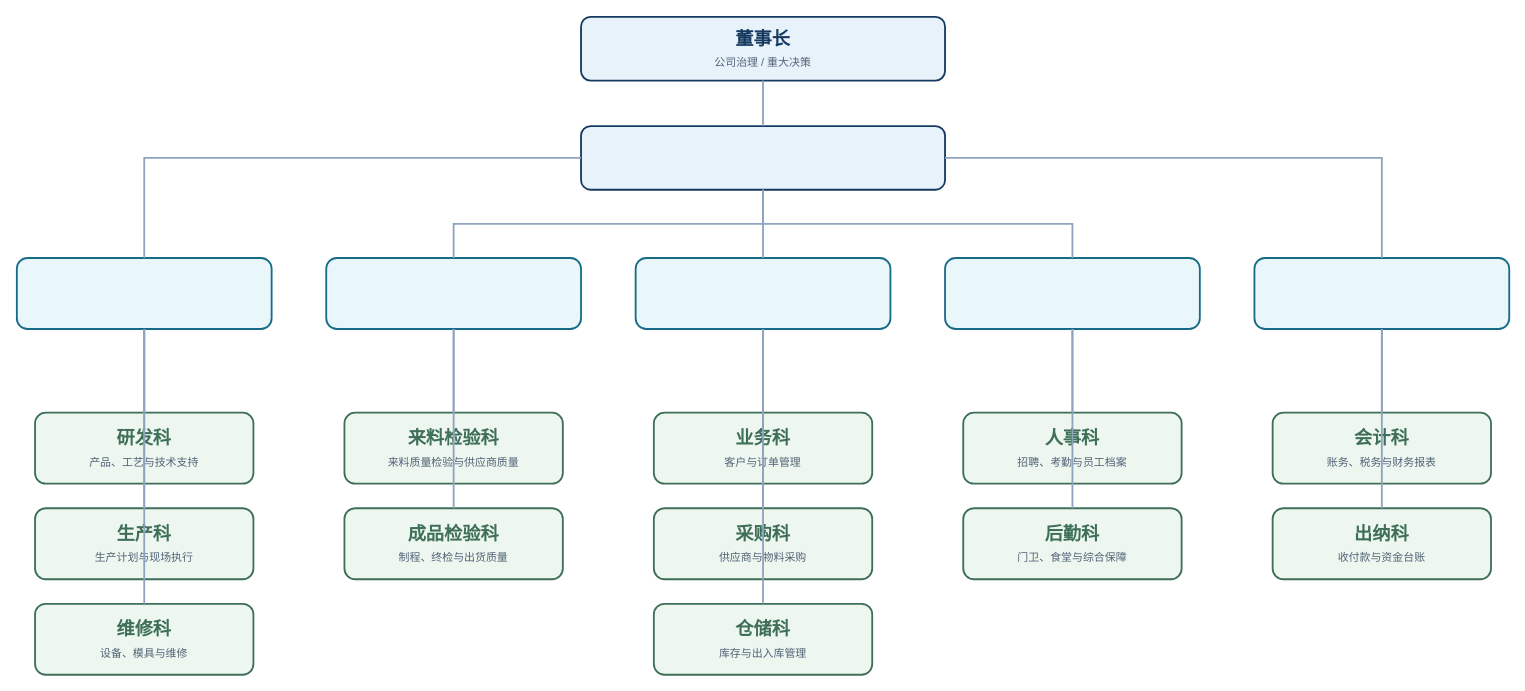
This 1525x691 diagram has some shape labels left out. The shapes that lost their labels are listed below. From the top down, each one's centre as x and y in pixels, then its label:
At [762,157]: "总经理 经营管理 / 统一协调".
At [143,293]: "生产部 生产计划、研发与现场执行".
At [453,293]: "品质部 来料与成品质量管理".
At [762,293]: "运营部 业务、采购与仓储运营".
At [1072,293]: "行政部 人事与后勤管理".
At [1381,293]: "财务部 会计与出纳管理".
